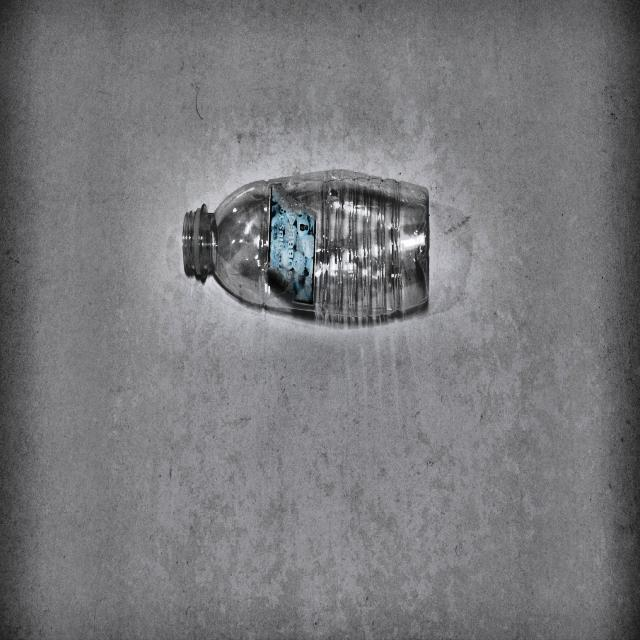Bottles: (178, 166, 444, 324)
